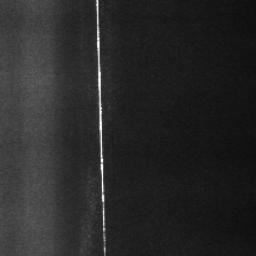Bright scratch: (96, 0, 107, 256)
